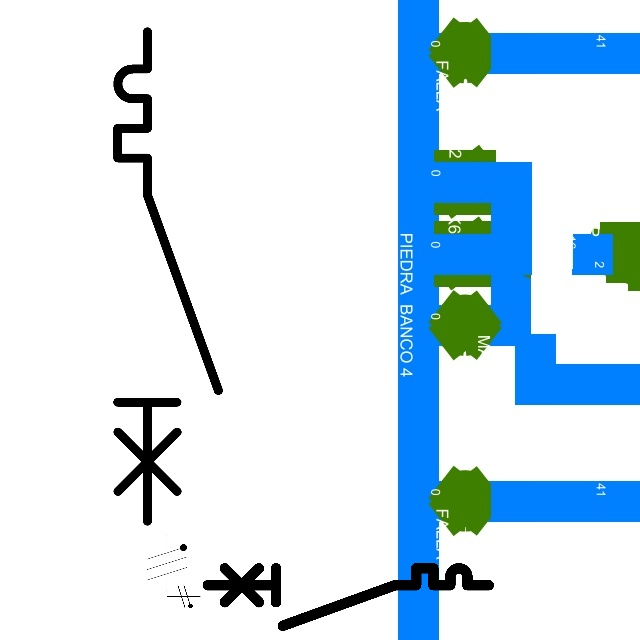interruptor_termomagnetico: (105, 19, 231, 534), (200, 561, 495, 633)
